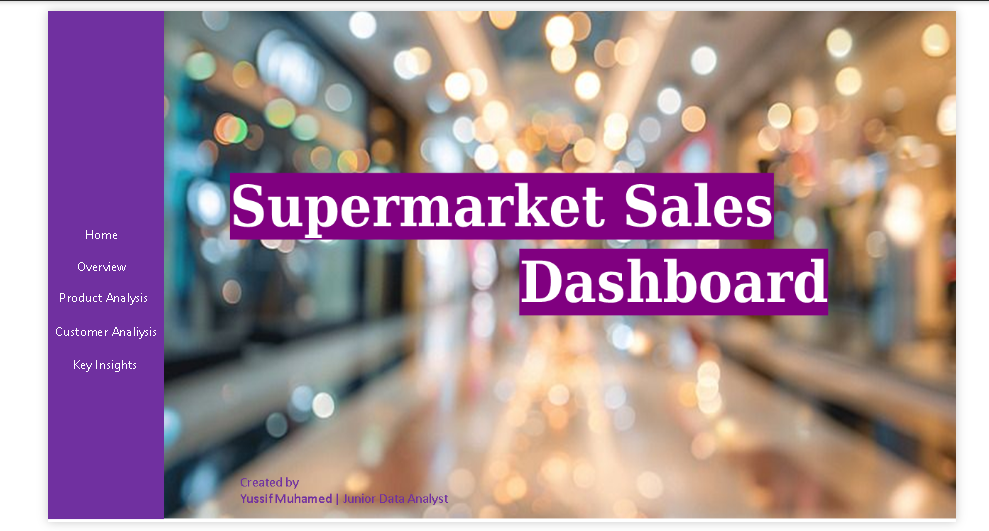

The dashboard page shown, as its layout file describes it:
{"tool":"powerbi","page":{"name":"Home","canvas":[1280,720],"ordinal":0},"visuals":[{"type":"actionButton","box":[17.5,296.2,117.5,37.5],"z":0},{"type":"actionButton","box":[17.5,341.2,116.9,38.1],"z":1000},{"type":"actionButton","box":[9.7,384.7,137.5,38.9],"z":2000},{"type":"actionButton","box":[4.2,431.9,155.6,37.5],"z":3000},{"type":"actionButton","box":[3.3,478.3,155,38.3],"z":4000}]}

Visuals, with their boxes on the page's 1280x720 design canvas (x1, y1, x2, y2). These are canvas units, not pixel positions in the 989x531 screenshot, which may show the page scaled, cropped or inside an application window:
actionButton: crop(18, 296, 135, 334)
actionButton: crop(18, 341, 134, 379)
actionButton: crop(10, 385, 147, 424)
actionButton: crop(4, 432, 160, 469)
actionButton: crop(3, 478, 158, 517)
